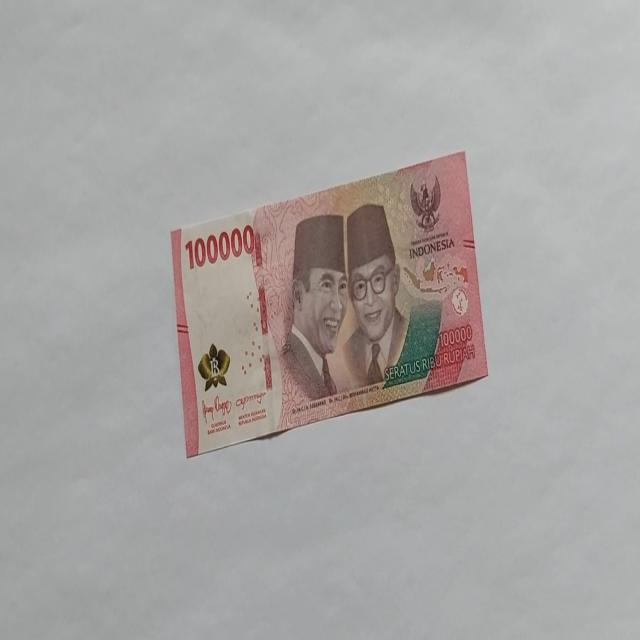seratus ribu rupiah: (170, 149, 488, 458)
